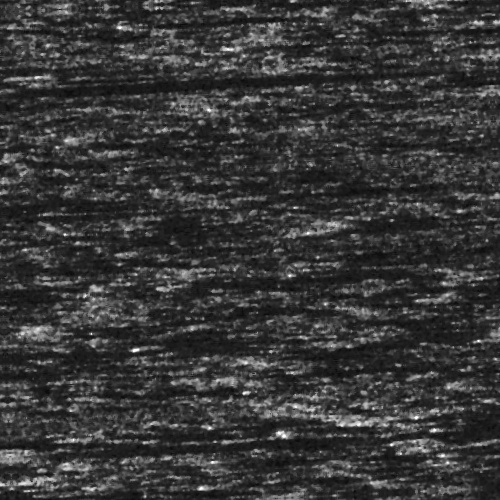object: (54, 411, 107, 446), (288, 221, 371, 240), (169, 371, 284, 380), (97, 239, 150, 248), (444, 451, 497, 458), (232, 193, 285, 198), (0, 429, 9, 454), (493, 55, 500, 68)
shadow: (0, 429, 500, 454), (81, 411, 228, 446), (0, 333, 143, 354), (330, 221, 478, 240), (227, 371, 380, 380), (123, 239, 266, 248), (0, 203, 168, 208), (259, 193, 400, 198), (471, 451, 500, 458)
